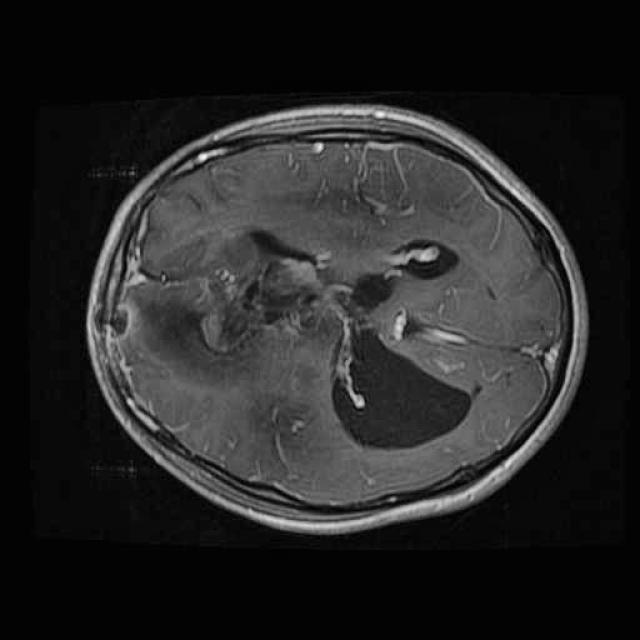Non-Tumor: (119, 210, 360, 386)
